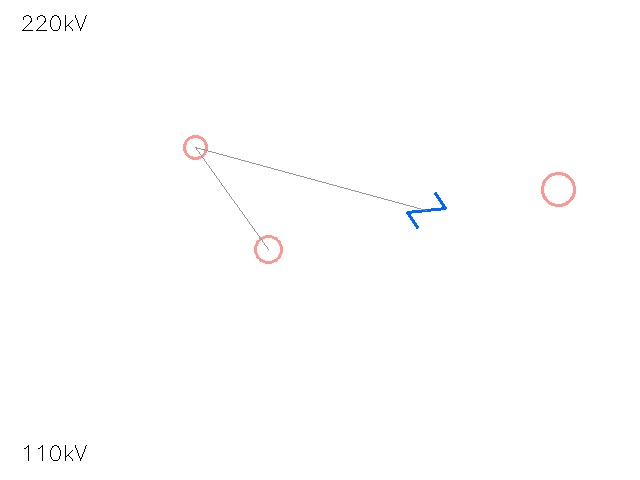circuit_breaker: (407, 191, 445, 229)
fuse: (172, 124, 218, 170)
load_break_switch: (525, 156, 591, 222)
reactor: (241, 222, 295, 276)
